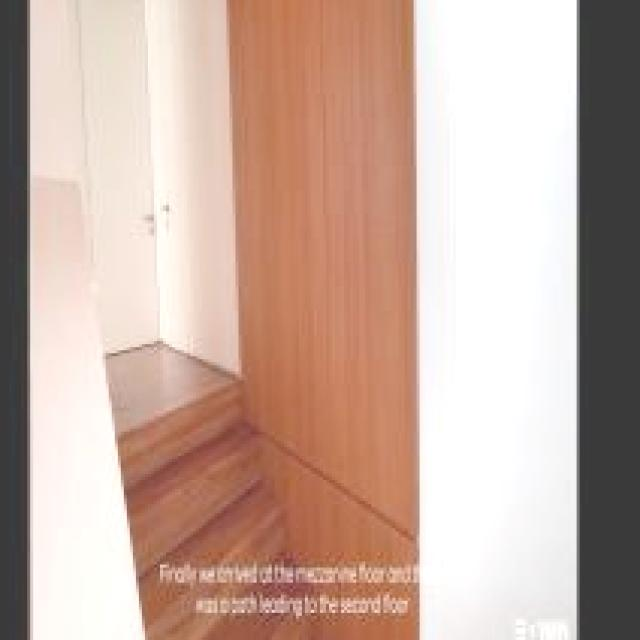upstair: (125, 384, 288, 640)
